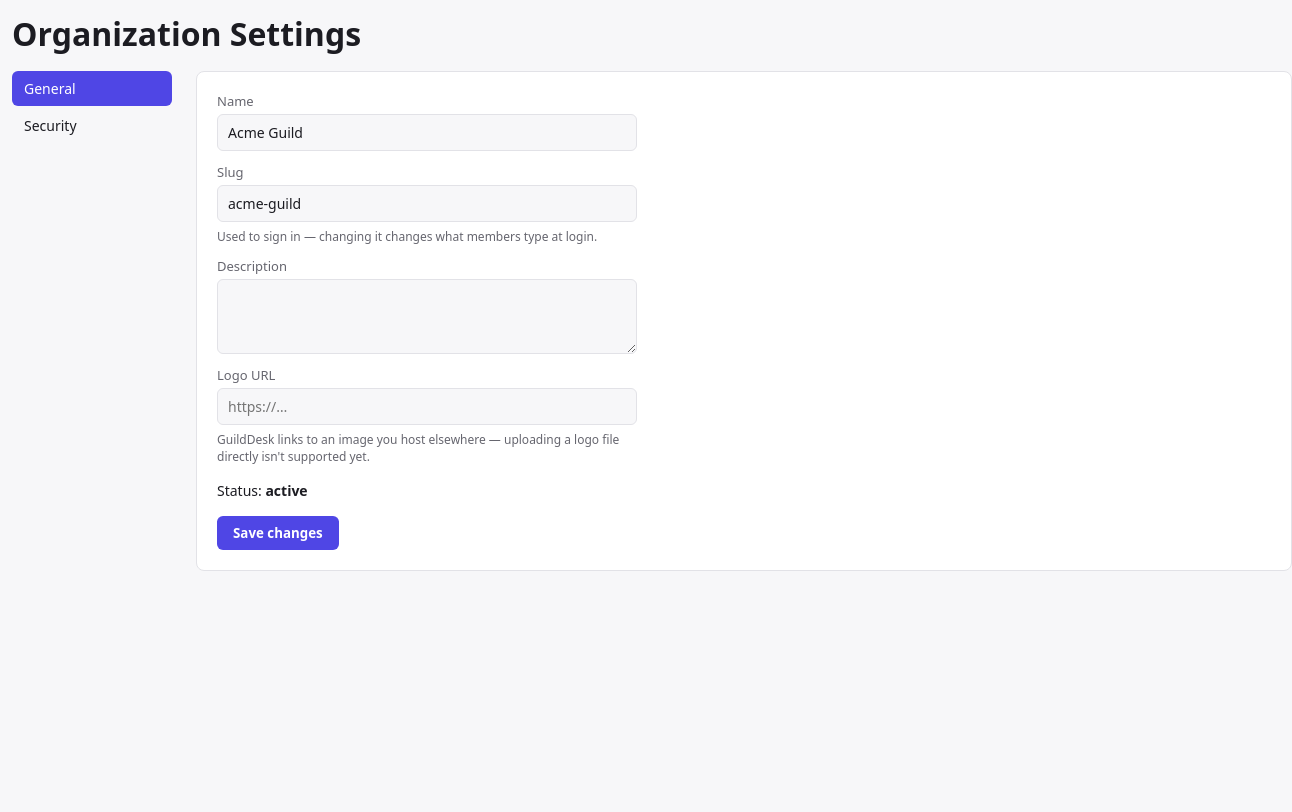
Test: SettingsPage › shows MFA as disabled and lets the user start enrollment
The image size is (1292, 812).
Check: the field showing "Acme Guild" is shown, box [217,114,637,151]
Click the button "Security".
click(92, 126)  # box [12,108,172,143]
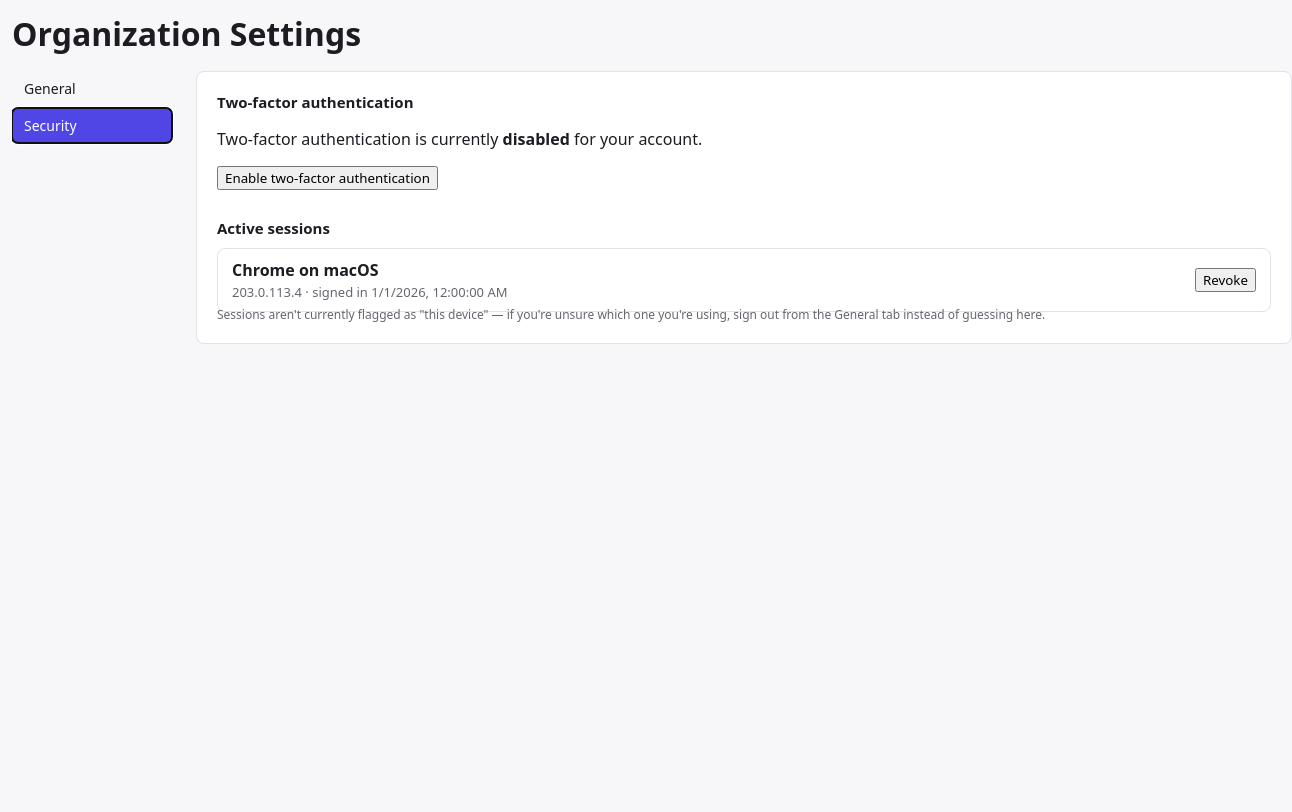
Check: the text "disabled" is shown, box [503,128,570,150]
Click the button "Enable two-factor authentication".
click(327, 178)  # box [217,166,438,190]
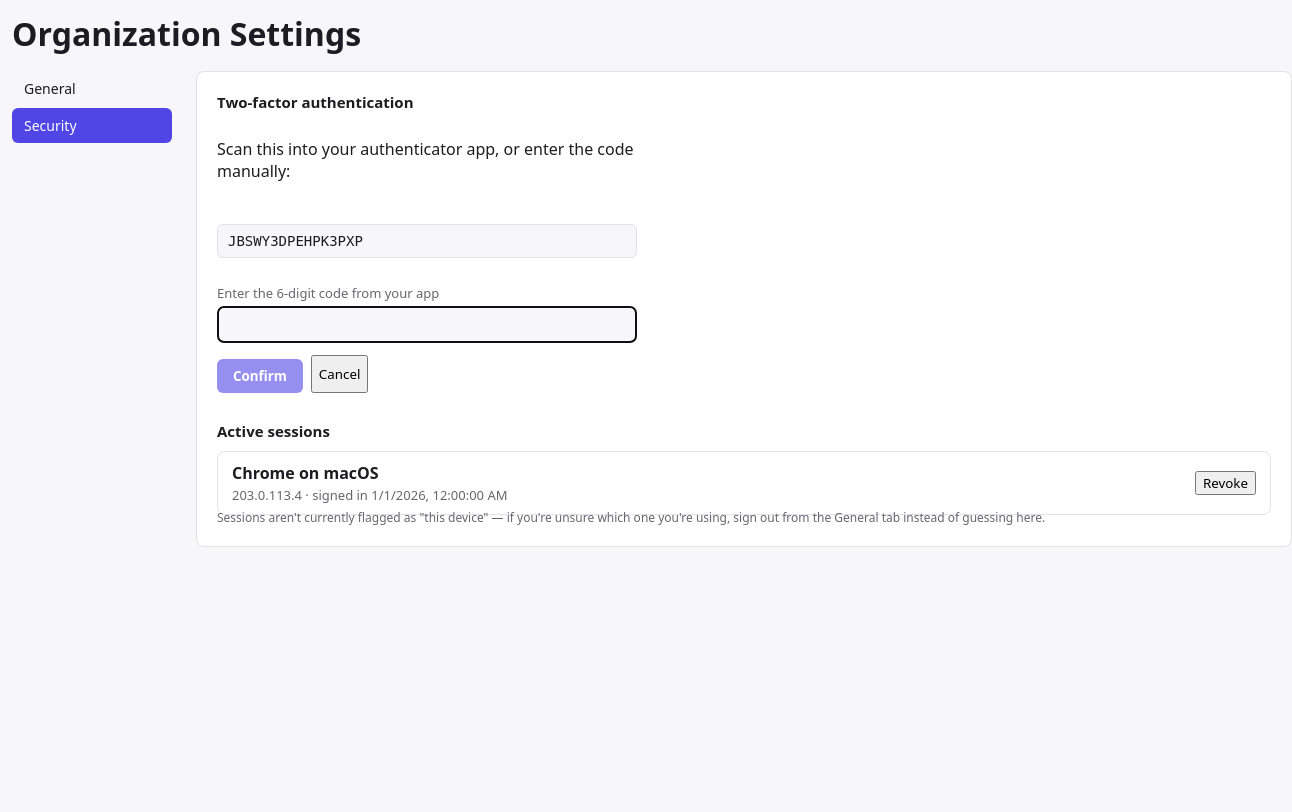
Check: the text "JBSWY3DPEHPK3PXP" is shown, box [217,224,637,258]
